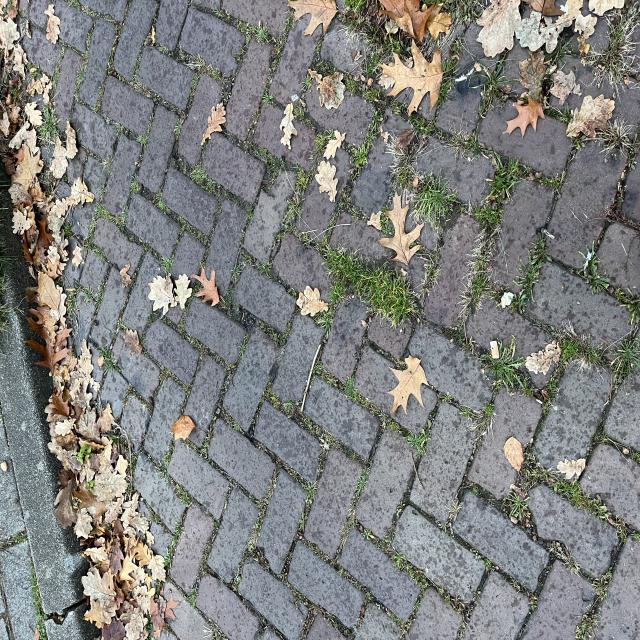leaves: (3, 4, 466, 211), (399, 508, 480, 599), (170, 521, 217, 570), (283, 512, 326, 561), (245, 196, 276, 255), (338, 426, 381, 455), (462, 394, 480, 446), (246, 403, 275, 432), (146, 231, 173, 259)
weedling: (254, 323, 491, 563)
